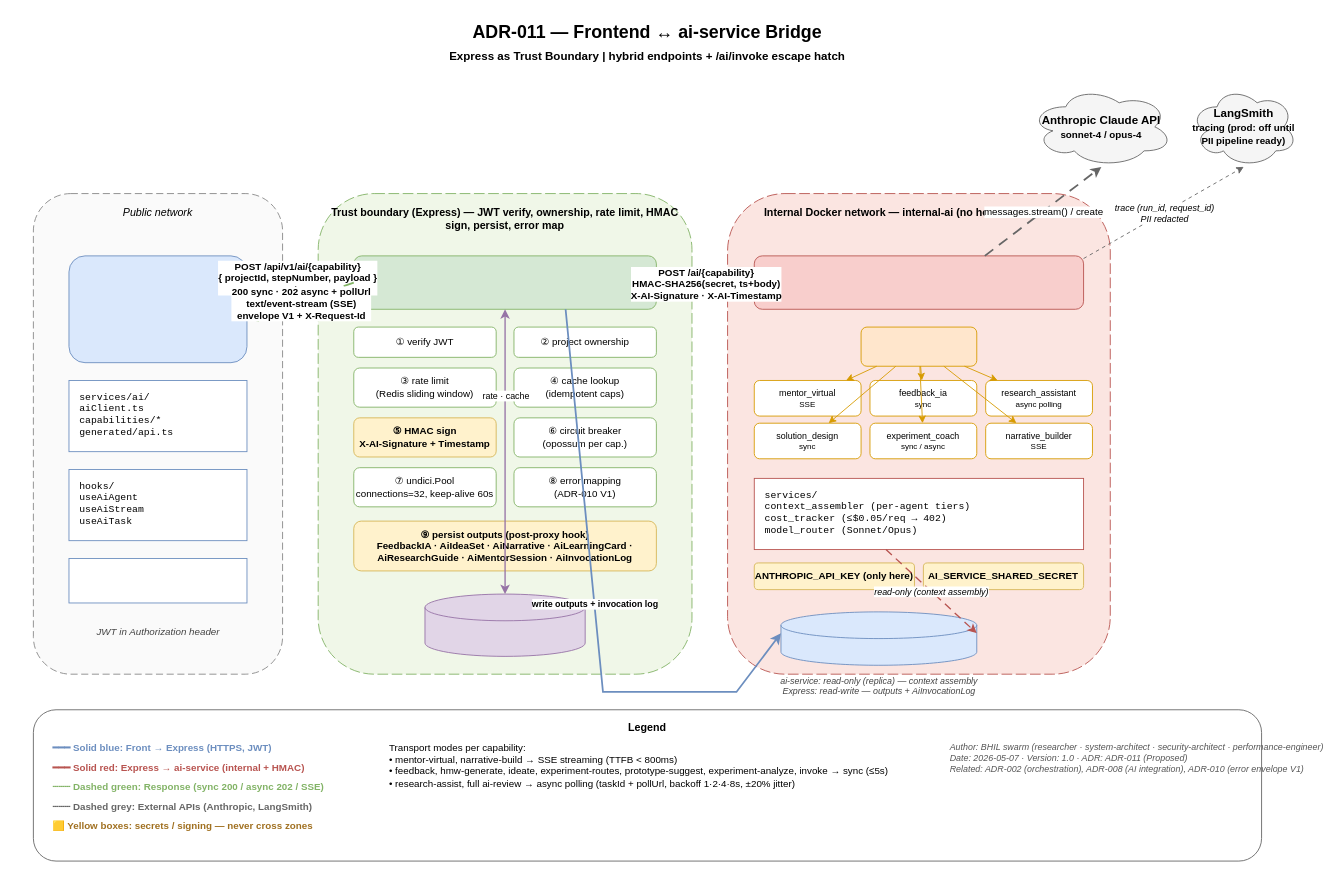
This 1339x877 diagram has some shape labels left out. The shapes that lost their labels are listed below. From the top down, each one's centre as x and y in pixels, then its label:
At [504,282]: "Express :3000 /api/v1/ai/*".
At [918,282]: "ai-service :8001 FastAPI + LangGraph · stateless · HMAC verify".
At [157,309]: "Front (React) axios + envelope V1 EventSource (SSE) poll backoff 1-8s".
At [918,346]: "Orchestrator router (intent)".
At [157,580]: "MentorVirtualPanel · FeedbackIAPanel ResearchModule · NarrativeBuilder".
At [504,624]: "Redis rate-limit + cache (24h feedback, 1h research)".
At [878,638]: "PostgreSQL (Prisma)".
